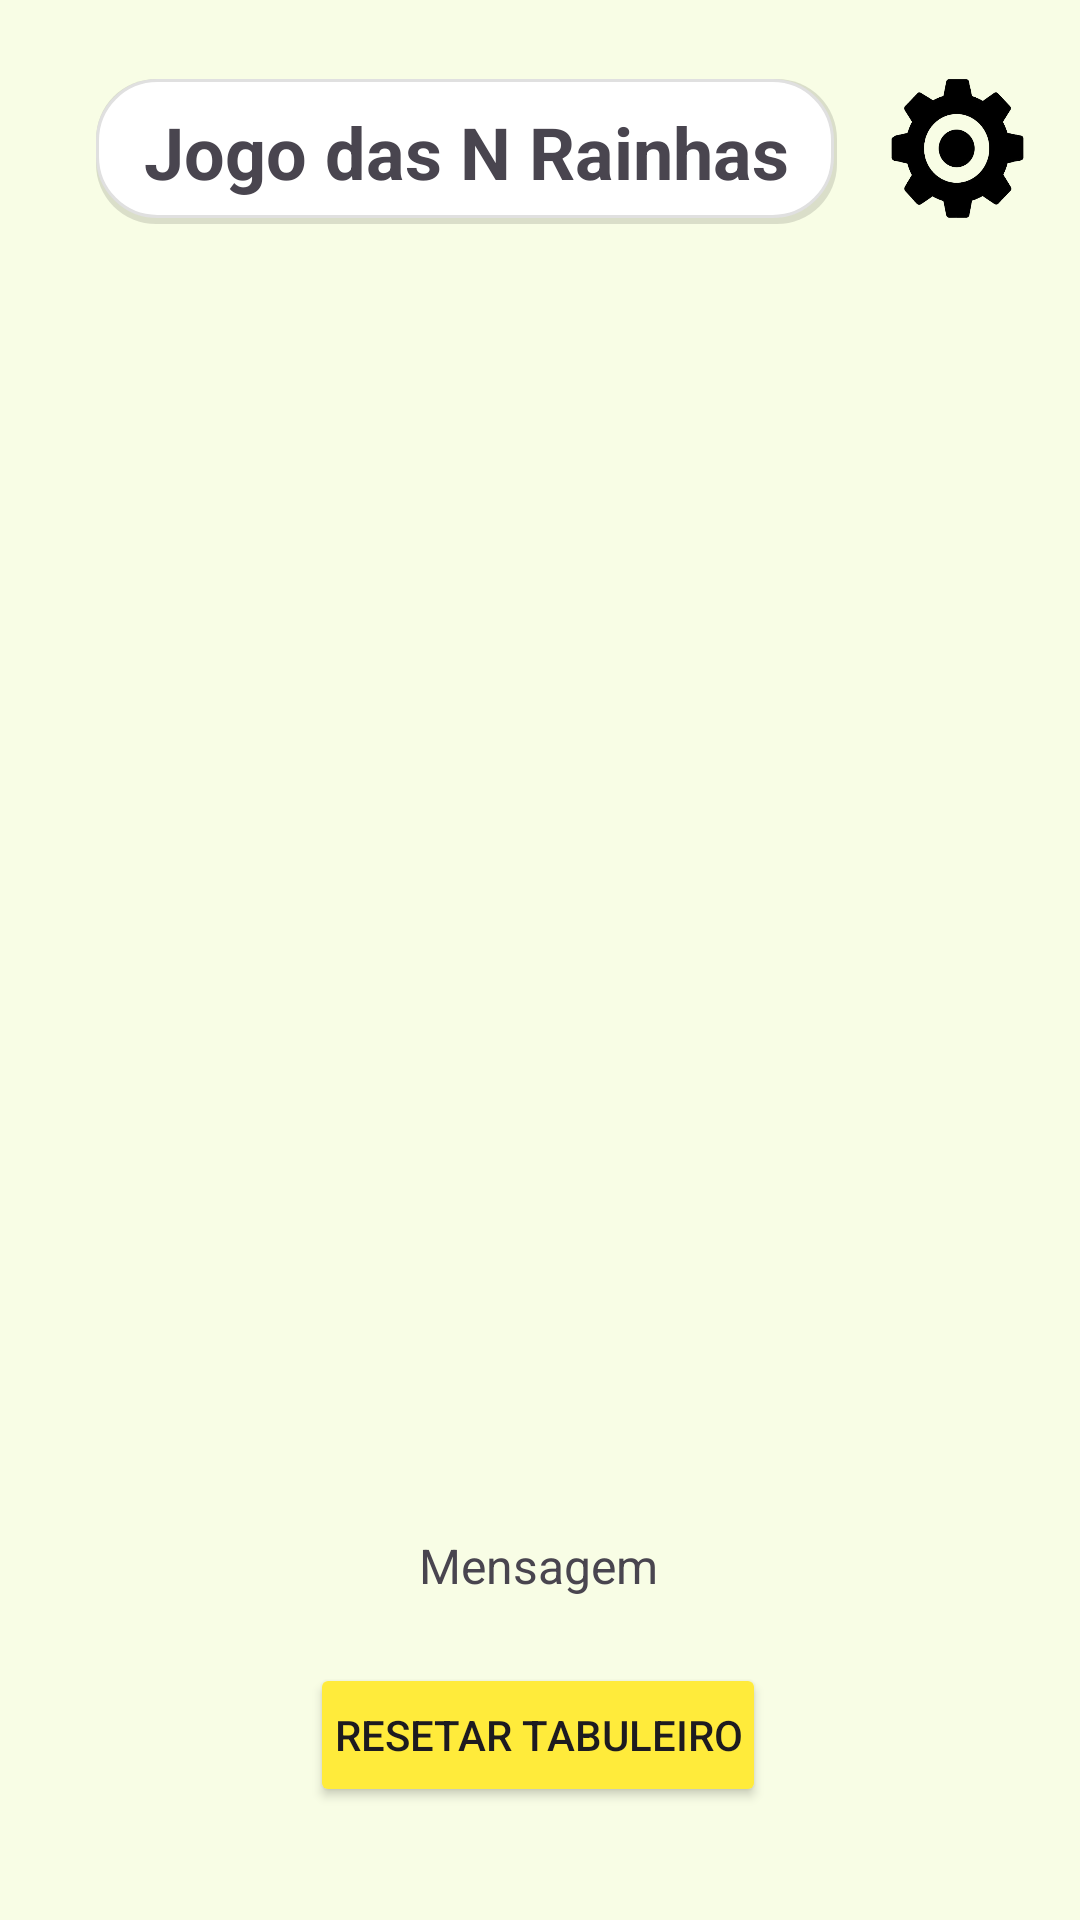

Locate icon controls on the screen. Image size 1080px×1920px, boxes as [x1, y1, x2, y2].
confteste: [891, 79, 1024, 218]
